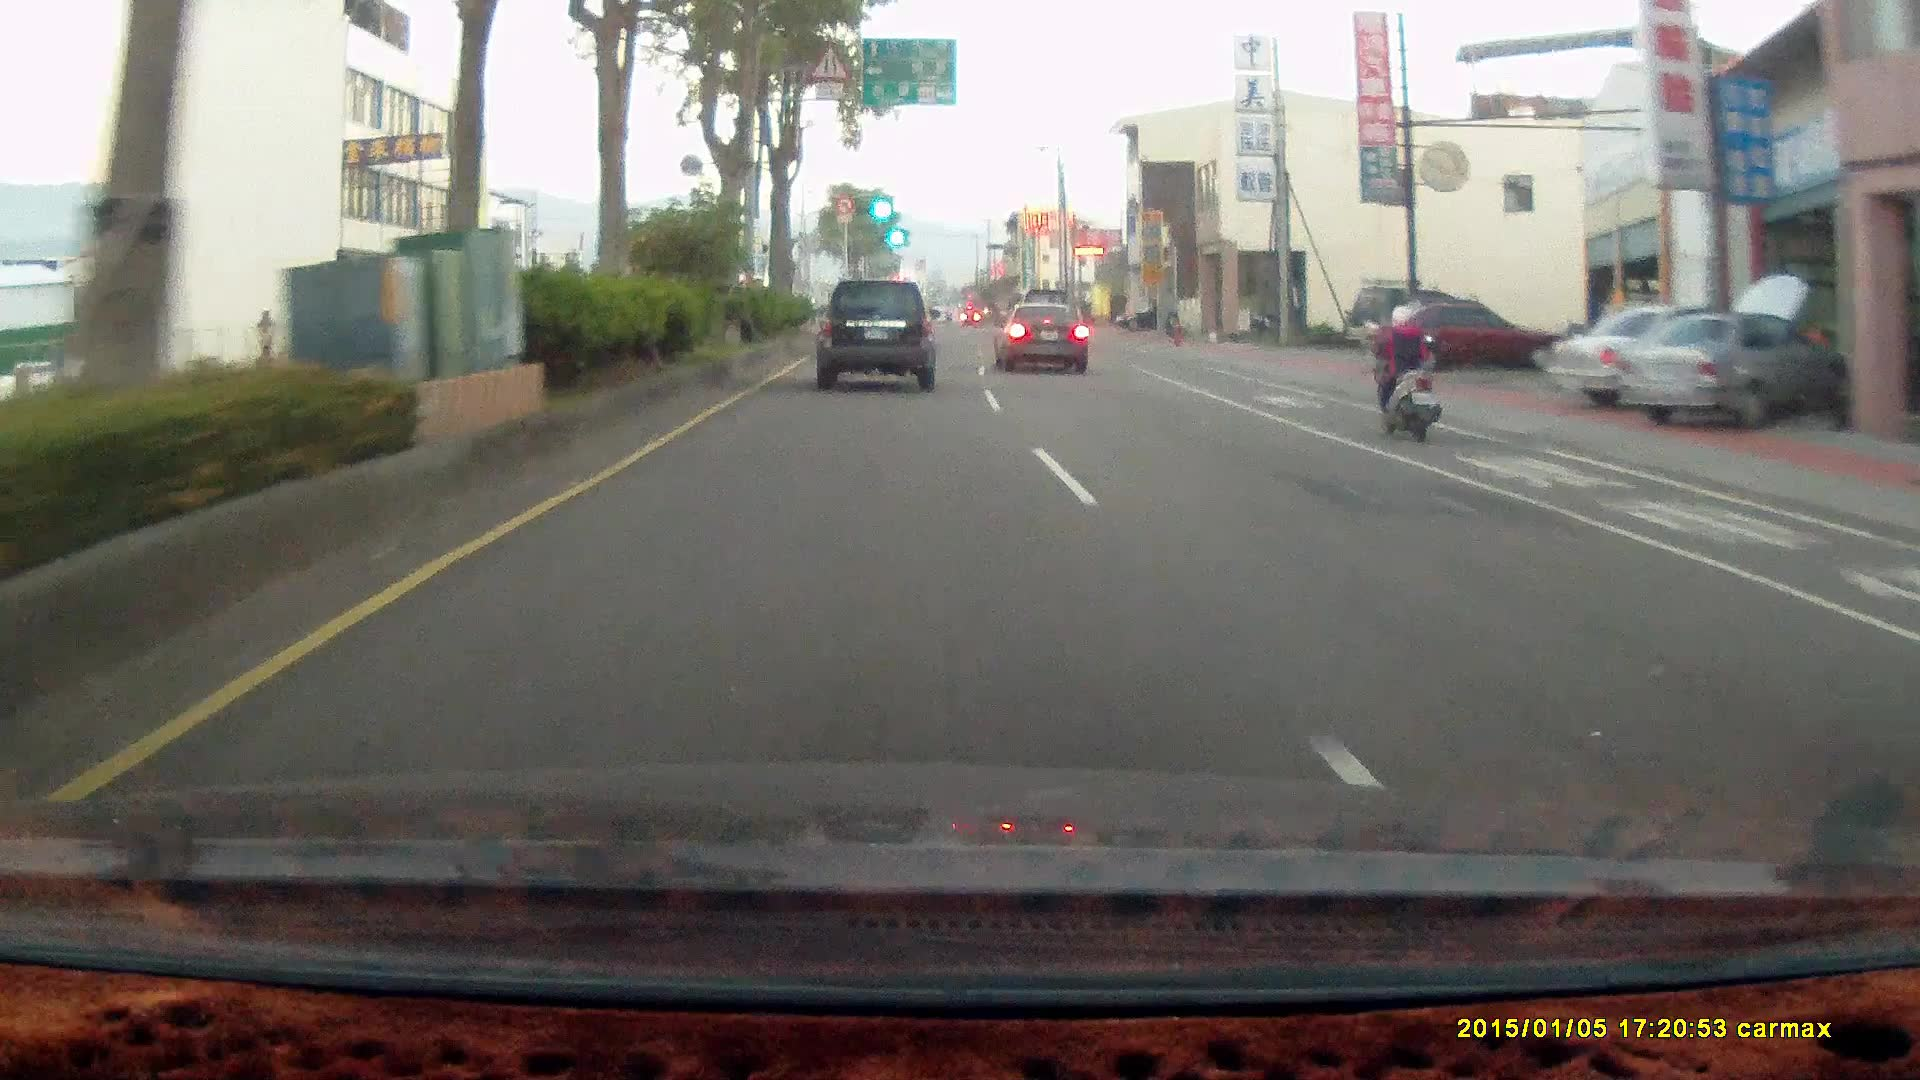rider: (1356, 286, 1456, 453), (1369, 297, 1442, 436)
vehicle: (1616, 309, 1846, 431), (1621, 303, 1852, 426), (1545, 301, 1779, 409), (1367, 296, 1564, 376), (1367, 295, 1563, 375), (812, 273, 942, 389), (815, 278, 939, 392), (1344, 274, 1466, 347), (995, 300, 1092, 375), (993, 300, 1089, 373), (1115, 304, 1178, 331)
